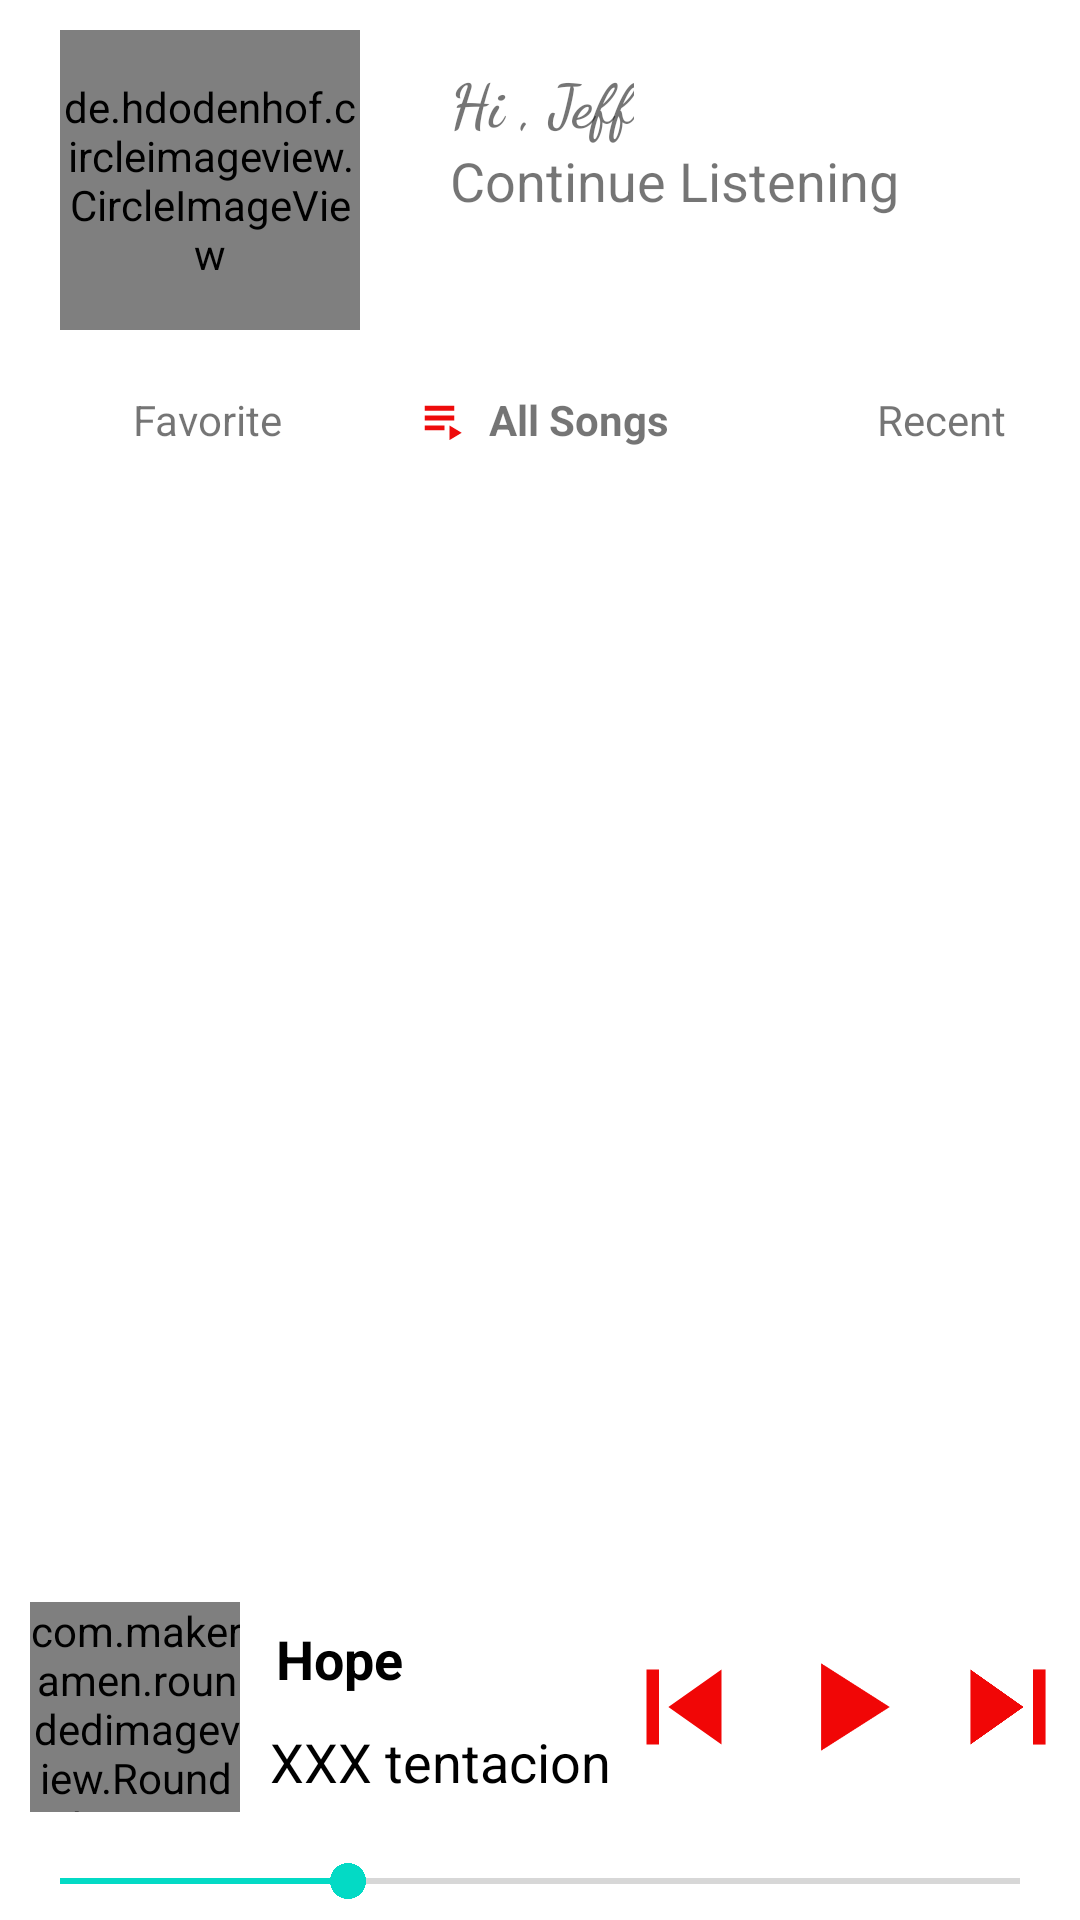

Where to tap for icons on this 1080×1920 app screen, as point (x, y):
play arrow: point (855, 1707)
playlist play: point (443, 422)
skip next: point (1008, 1707)
skip previous: point (684, 1707)
